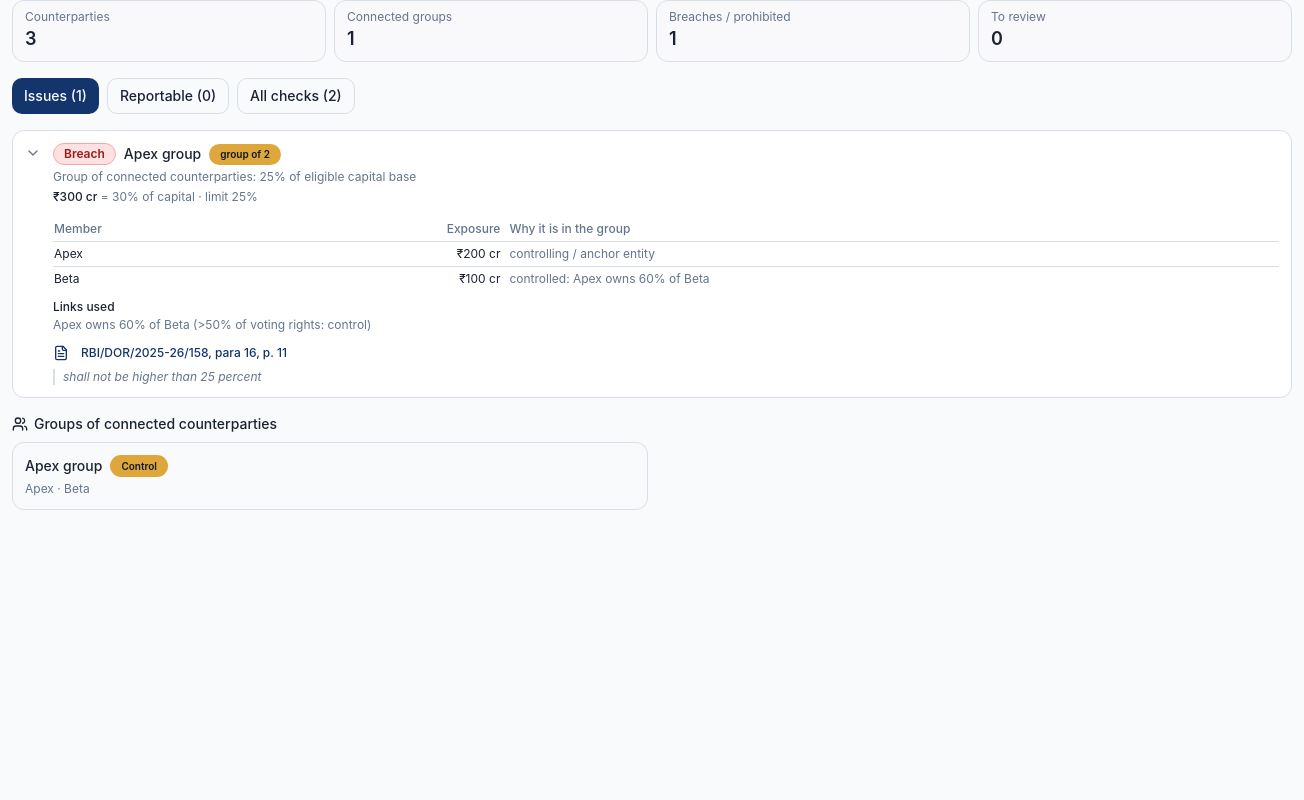
Test: NetworkResults › shows issues first with the group members, why they are grouped, and the source paragraph
Expected: the button "Issues (1)" is shown, [12, 78, 99, 114]
Expected: the 1st text "Apex group" is shown, [124, 144, 201, 164]
Click the button "All checks (2)" at (296, 96), box [237, 78, 355, 114]
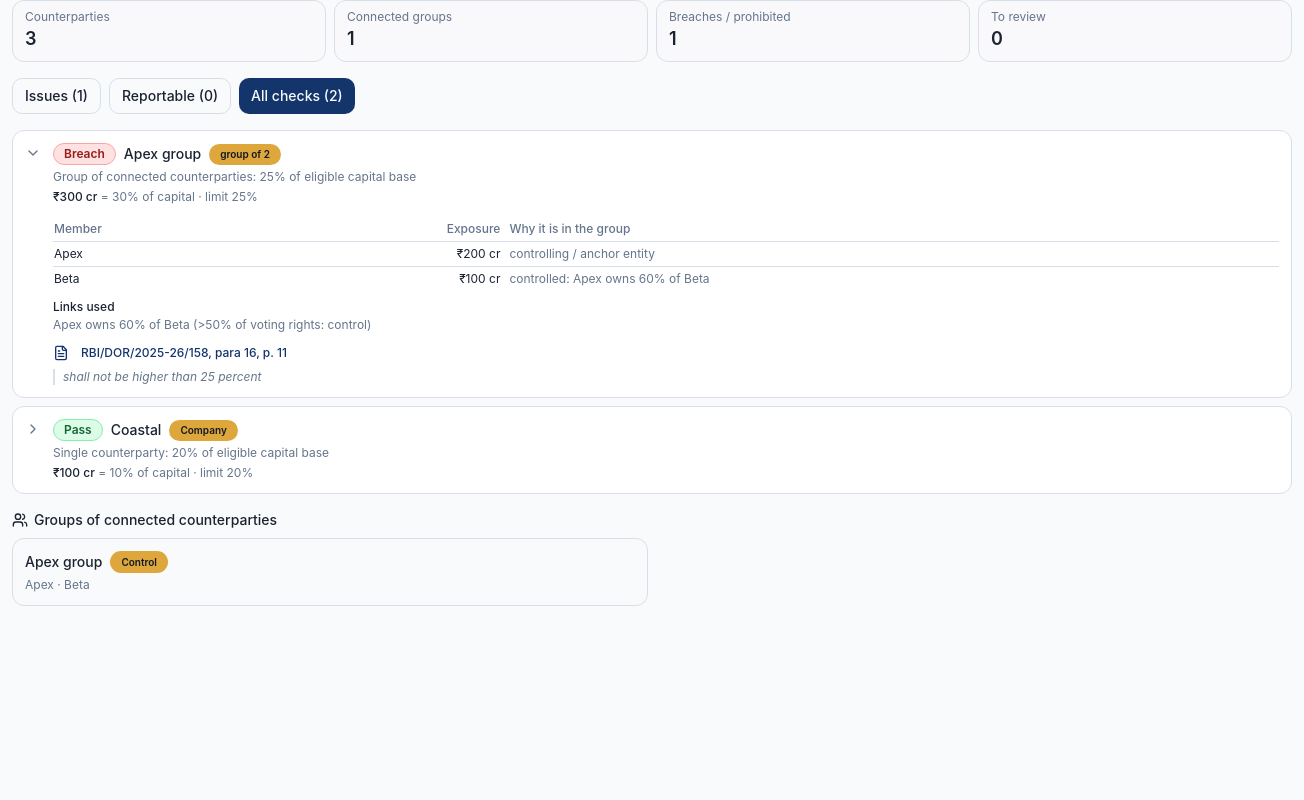
Expected: the text "Coastal" is shown, [111, 420, 161, 440]
